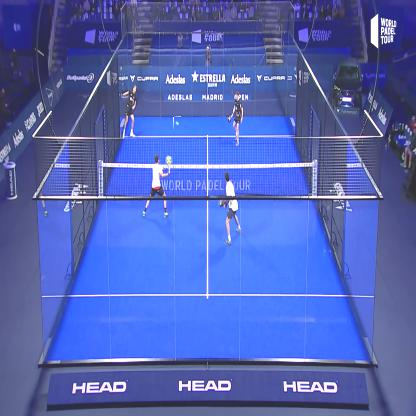ball: (173, 116, 182, 131)
